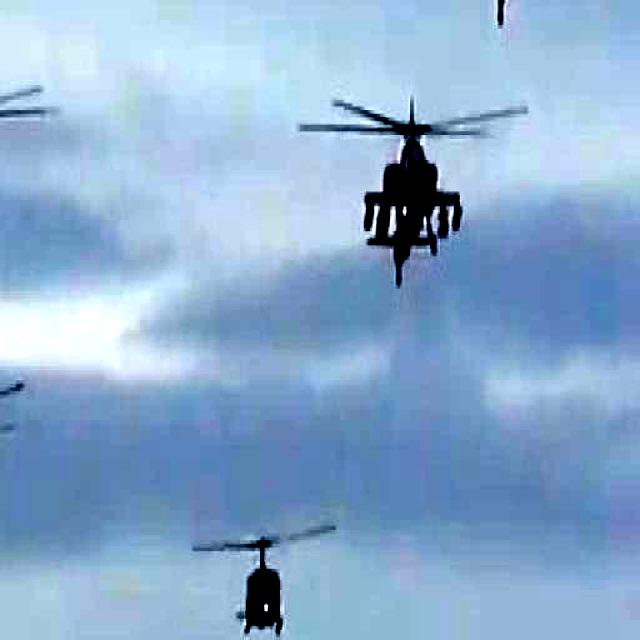drone: (306, 86, 539, 281), (194, 499, 325, 640), (0, 365, 71, 588), (0, 54, 56, 281)
